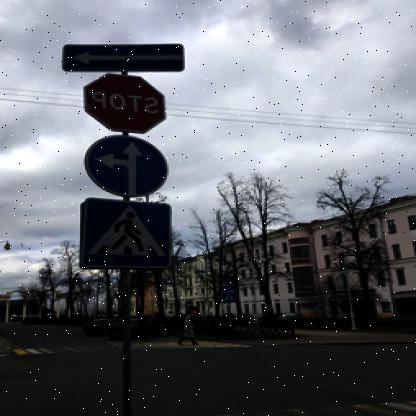crosswalk: (82, 195, 172, 268), (224, 290, 236, 302)
stop: (85, 72, 172, 130)
